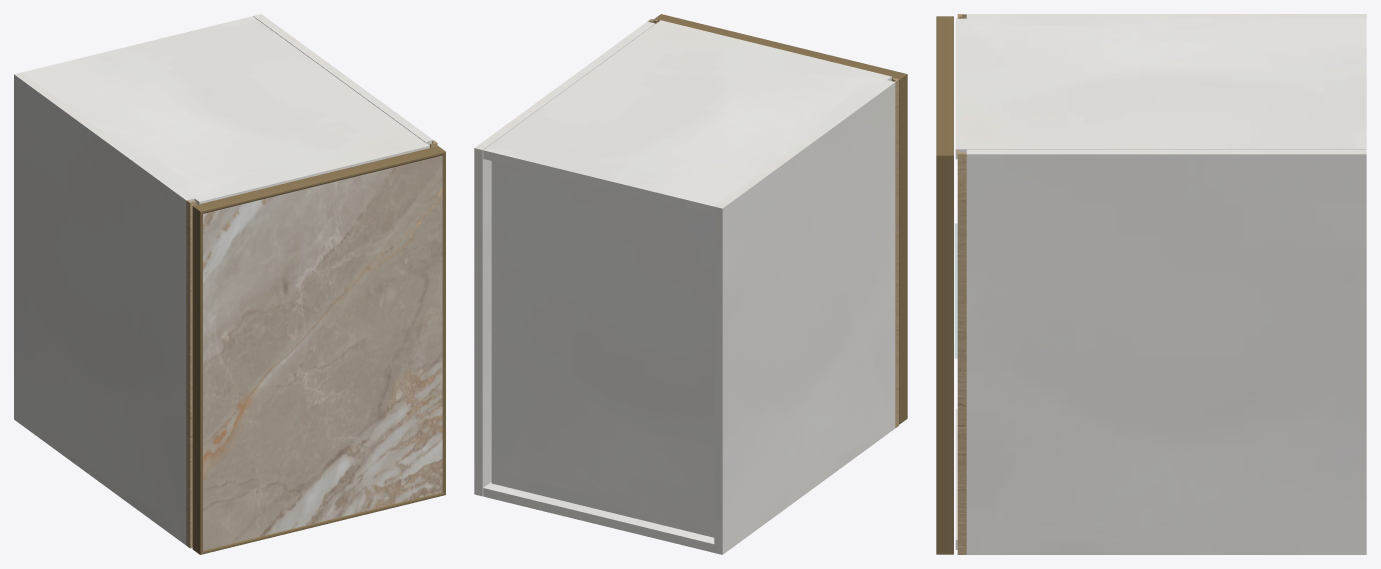
Rendered from LOF-SH-NHX-ST-1SX-LHS-XXX-450-600-560-15.glb.
3 renders of one model, left to right at view 1: azimuth 30°, elevation 25°; view 2: azimuth 150°, elevation 25°; view 3: azimuth 270°, elevation 25°, orthographic. The views are drawn at different scales.
Parts seen in each view (by area): view 1: Object_node_4, TP_node_0, TP, Extrusion_node_1, Extrusion, Object_node_6, TP_node_1, Extrusion_node, Extrusion_node_0; view 2: TP_node_2, TP_node_0, TP, TP_node_1, TP_node, Extrusion_node_1, Object_node_6, Extrusion; view 3: TP_node_1, TP, Extrusion_node, Object_node_12, Extrusion, TP_node_0.
Part boxes in pixels (x1,y1,x2,y2): Object_node_4: (203,155,442,550); TP_node_0: (14,72,194,545); TP: (23,16,429,204); Extrusion_node_1: (192,206,202,554); Extrusion: (193,146,445,213); Object_node_6: (186,200,196,548); TP_node_1: (253,14,433,147); Extrusion_node: (442,152,445,494); Extrusion_node_0: (200,492,445,554); TP_node_2: (491,161,714,537); TP_node_0: (714,80,895,554); TP: (483,20,891,214); TP_node_1: (474,21,655,496); TP_node: (483,482,714,552); Extrusion_node_1: (899,74,907,423); Object_node_6: (891,77,899,427); Extrusion: (654,14,907,79); TP_node_1: (966,149,1366,554); TP: (955,18,1366,159); Extrusion_node: (936,155,953,554); Object_node_12: (957,150,966,554); Extrusion: (936,16,953,155); TP_node_0: (966,14,1366,18).
Size of what is drawn, in the model's own units: 0.45 by 0.6 by 0.5842.
Materials: 7 (3 with a texture image).
